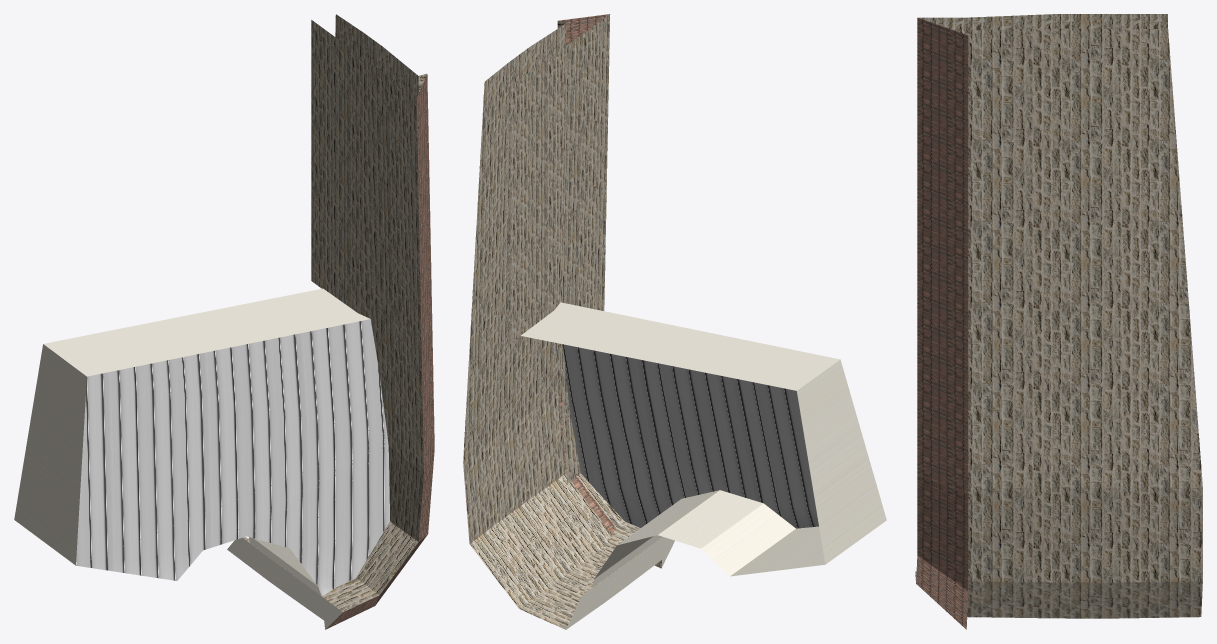
The model's file is Pikk_68_2.obj.
The picture shows the model from 3 angles, left to right: view 1: azimuth 30°, elevation 25°; view 2: azimuth 150°, elevation 25°; view 3: azimuth 270°, elevation 25°; orthographic projection. The views are drawn at different scales.
Visible parts, largest first — view 1: Pikk_68_2, xxx; view 2: Pikk_68_2, xxx; view 3: Pikk_68_2.
Boxes of the visible parts, x1,y1,x2,y2 form: Pikk_68_2: (43,14,434,629); xxx: (14,344,342,629); Pikk_68_2: (463,14,840,629); xxx: (566,359,886,629); Pikk_68_2: (915,14,1202,629).
Bounding box in the file's own units: 16.48 × 23.96 × 9.74.
